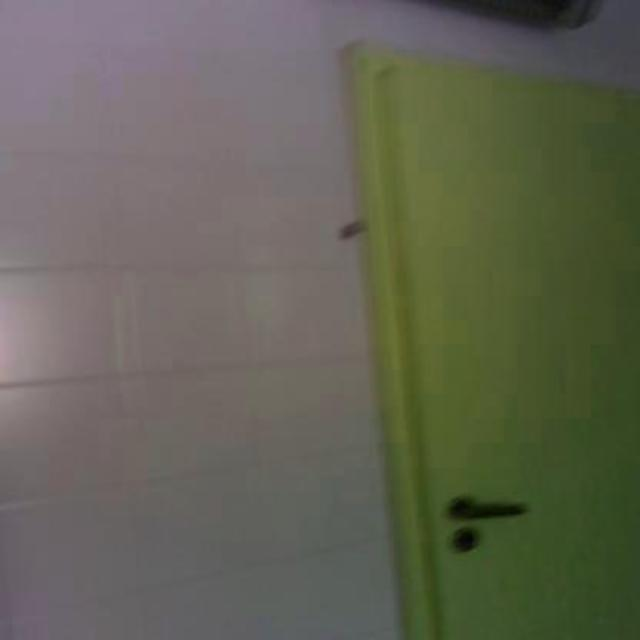door: (338, 37, 638, 639)
